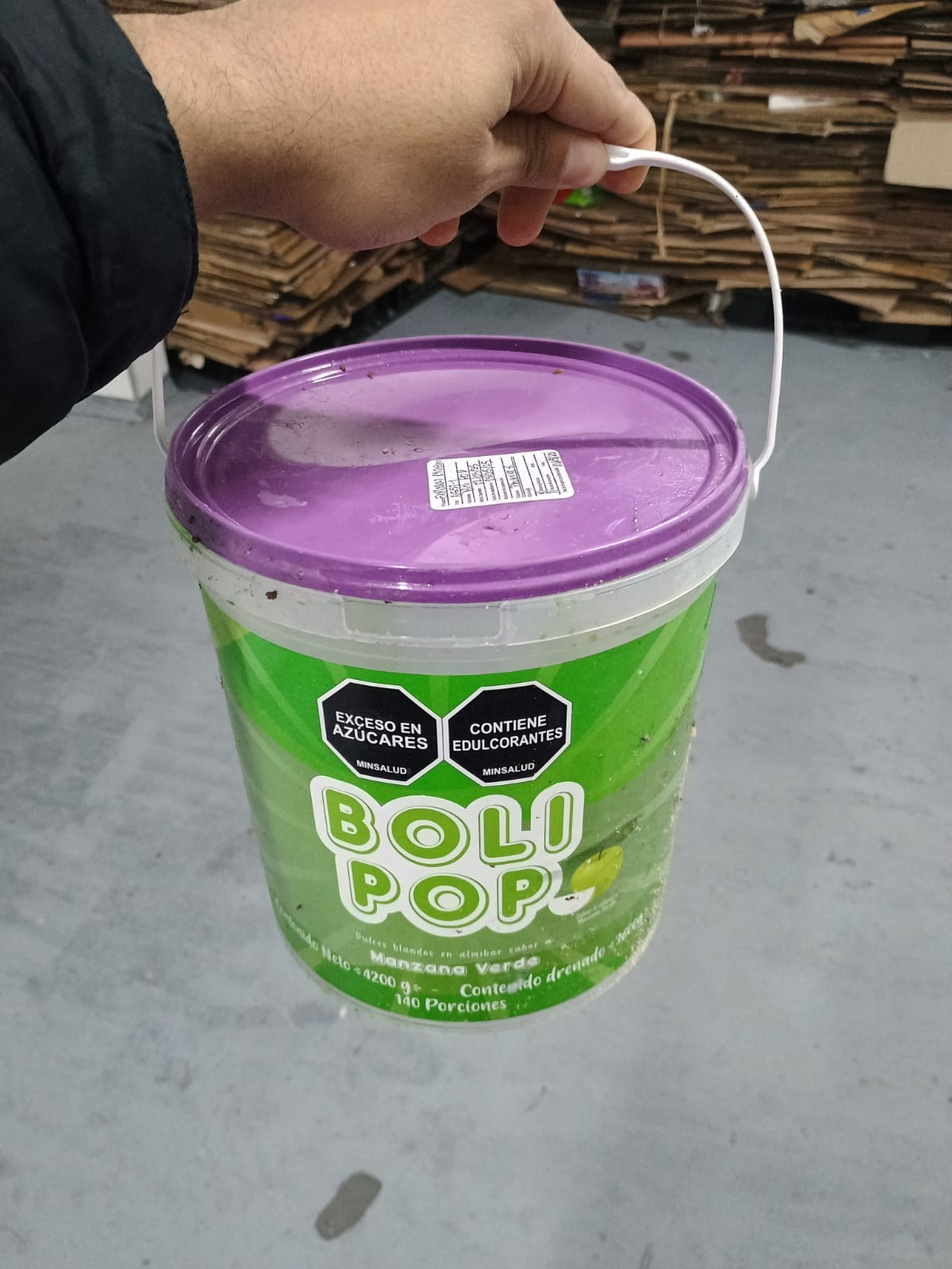Plastico: (163, 336, 752, 1032)
